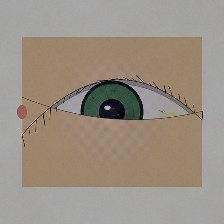pinguecula_lesion: (149, 100, 191, 134)
